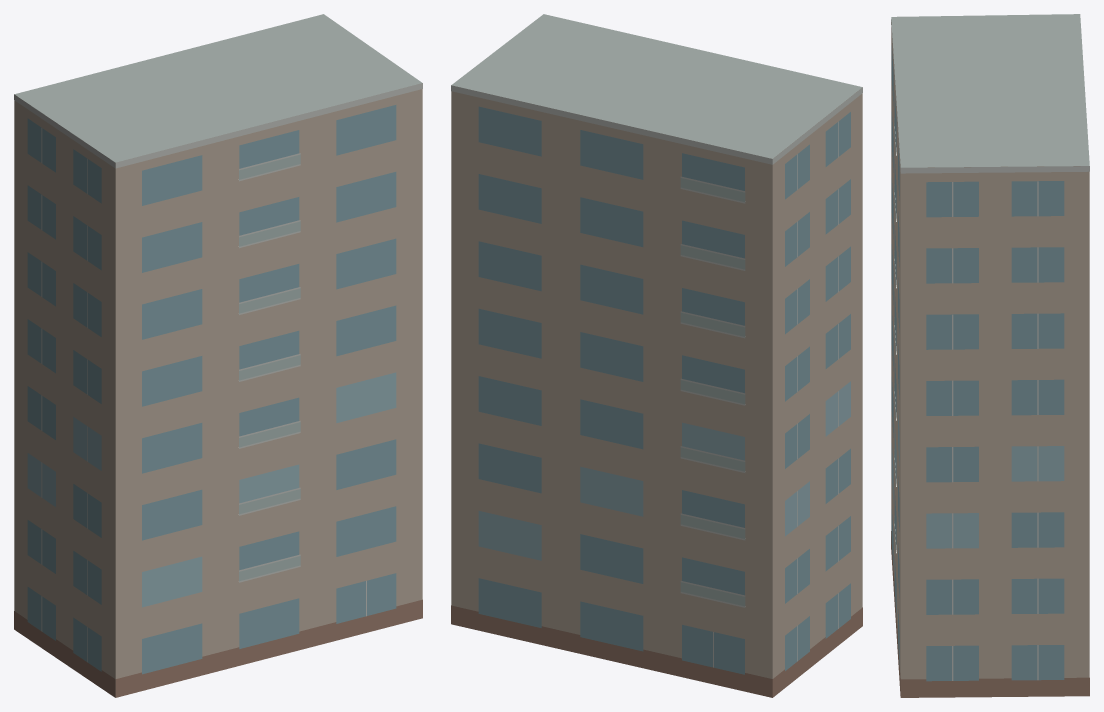
File: survey-upis-32729228.glb
3 renders of one model, left to right at view 1: azimuth 30°, elevation 25°; view 2: azimuth 150°, elevation 25°; view 3: azimuth 270°, elevation 25°, orthographic.
Parts seen in each view (by area): view 1: survey-upis-32729228.tmp; view 2: survey-upis-32729228.tmp; view 3: survey-upis-32729228.tmp.
Part boxes in pixels (<box>): survey-upis-32729228.tmp: <box>14,14,422,697</box>; survey-upis-32729228.tmp: <box>451,14,862,697</box>; survey-upis-32729228.tmp: <box>891,14,1089,697</box>.
Bounding box in the file's own units: 13.81 × 22.2 × 7.55.
